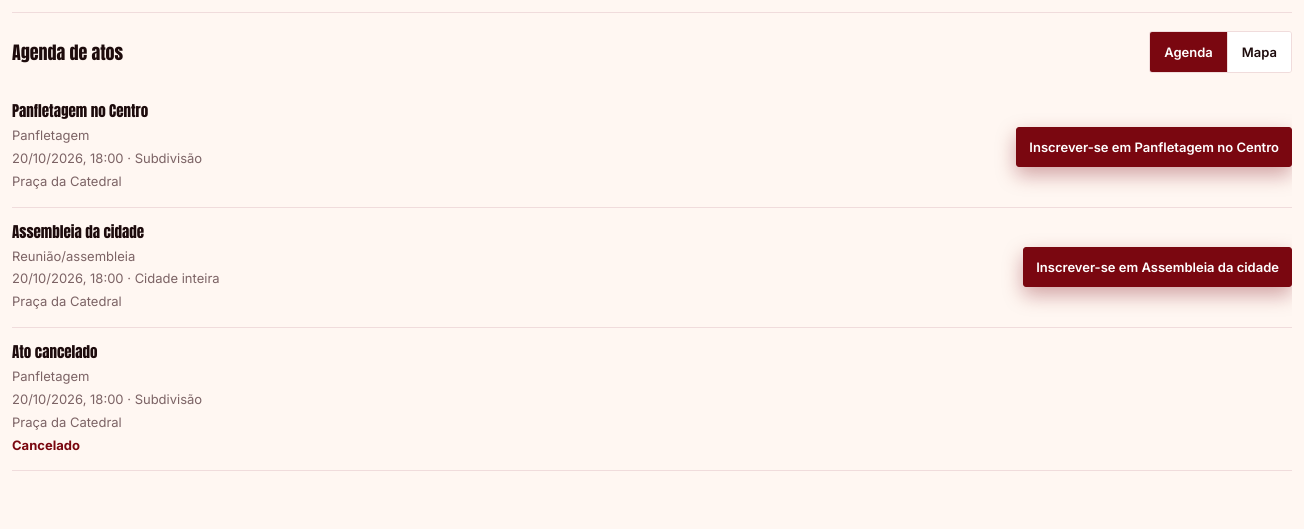
Scenario: ActAgenda › lets participants register for an act outside their own subdivision and cancel before it starts
expect the heading "Panfletagem no Centro" is shown: met, box [12, 99, 148, 122]
What coordinates should you click on to do the following:
click the button "Inscrever-se em Panfletagem no Centro"
I would click on:
 (1154, 147)
Its box is [1016, 127, 1292, 167].
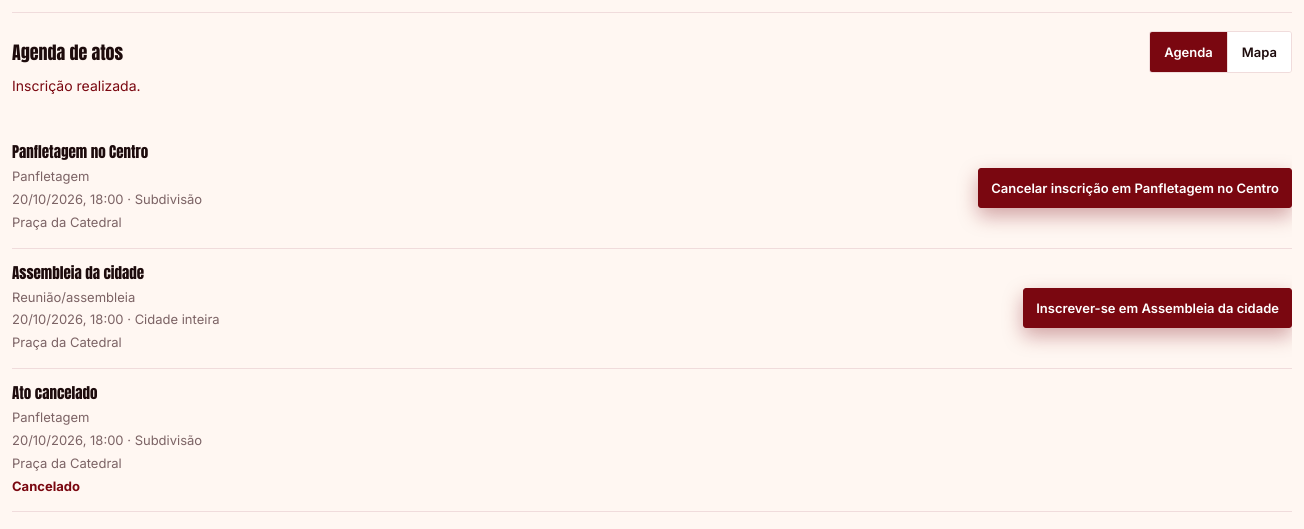
expect the button "Cancelar inscrição em Panfletagem no Centro" is shown: met
What coordinates should you click on to do the following:
click the button "Cancelar inscrição em Panfletagem no Centro"
I would click on:
 (1135, 188)
Its box is [978, 168, 1292, 208].
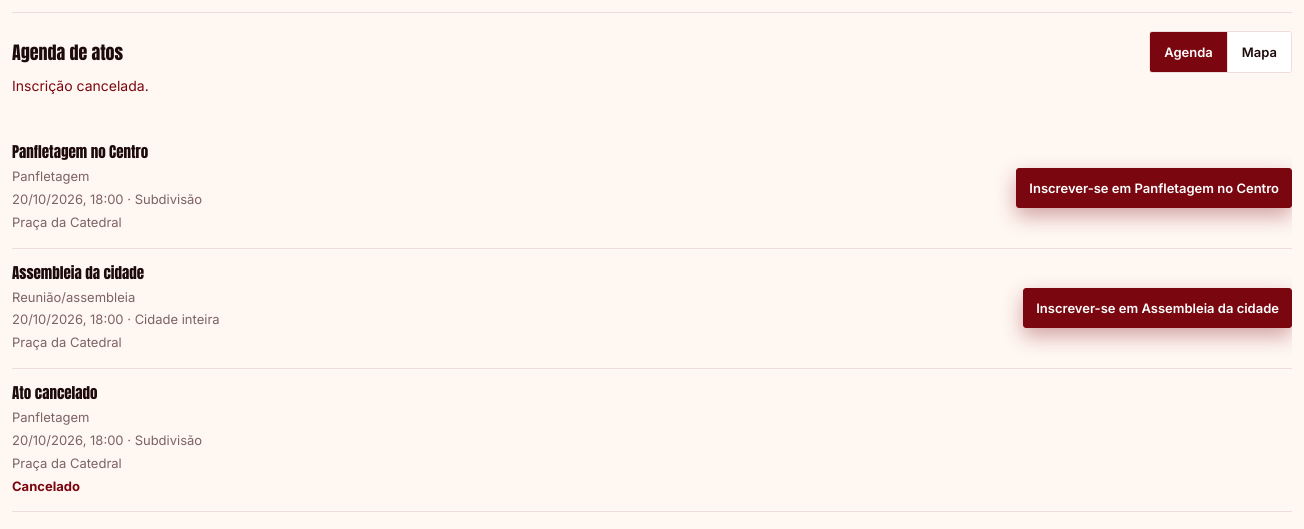
expect the button "Inscrever-se em Panfletagem no Centro" is shown: met, box [1016, 168, 1292, 208]
